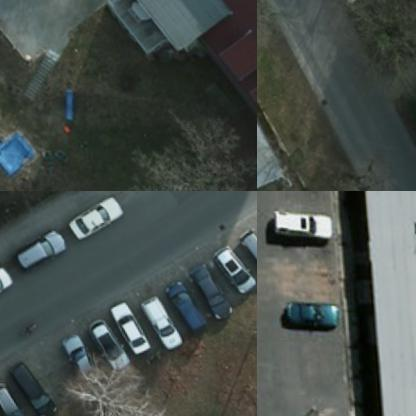car: (0, 358, 55, 415), (59, 191, 123, 239), (57, 328, 103, 390), (83, 310, 129, 372), (185, 254, 231, 313), (157, 268, 202, 328), (134, 286, 180, 344), (273, 202, 332, 242), (104, 293, 146, 349), (208, 234, 253, 286), (15, 222, 66, 266), (285, 295, 336, 322), (0, 375, 30, 415), (234, 218, 256, 271), (0, 260, 14, 303)
